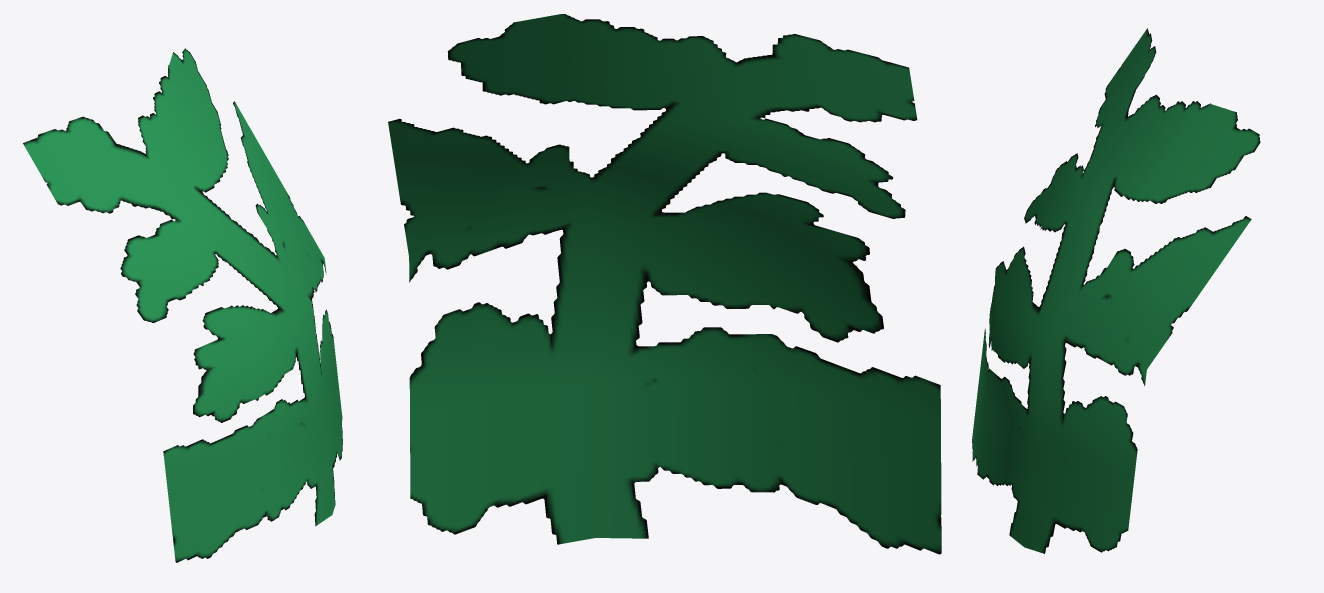
File: Bush02.fbx
3 renders of one model, left to right at view 1: azimuth 30°, elevation 25°; view 2: azimuth 150°, elevation 25°; view 3: azimuth 270°, elevation 25°, orthographic. The views are drawn at different scales.
Visible parts, largest first — view 1: Cube.010; view 2: Cube.010; view 3: Cube.010.
Part boxes in pixels (x1,y1,x2,y2): Cube.010: (23, 48, 342, 562); Cube.010: (388, 14, 941, 554); Cube.010: (972, 28, 1260, 553).
Size of the model in its own units: 0.2017 by 0.2441 by 0.1844.
Materials: 1 (1 with a texture image).
